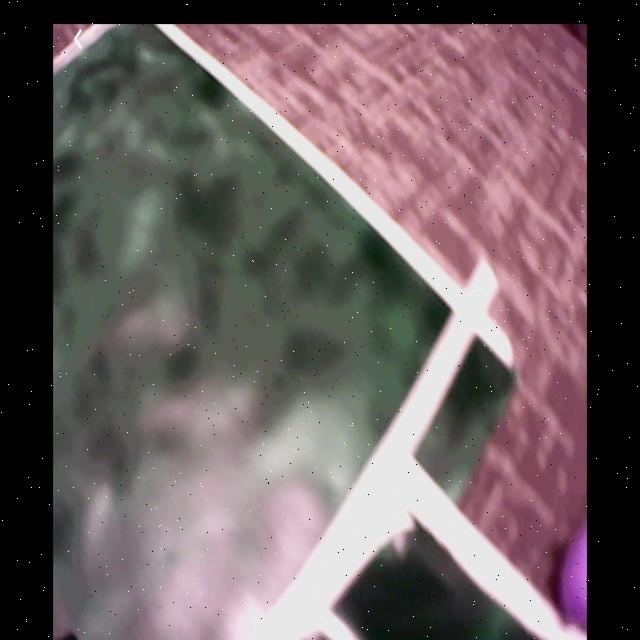ball: (560, 526, 588, 630)
